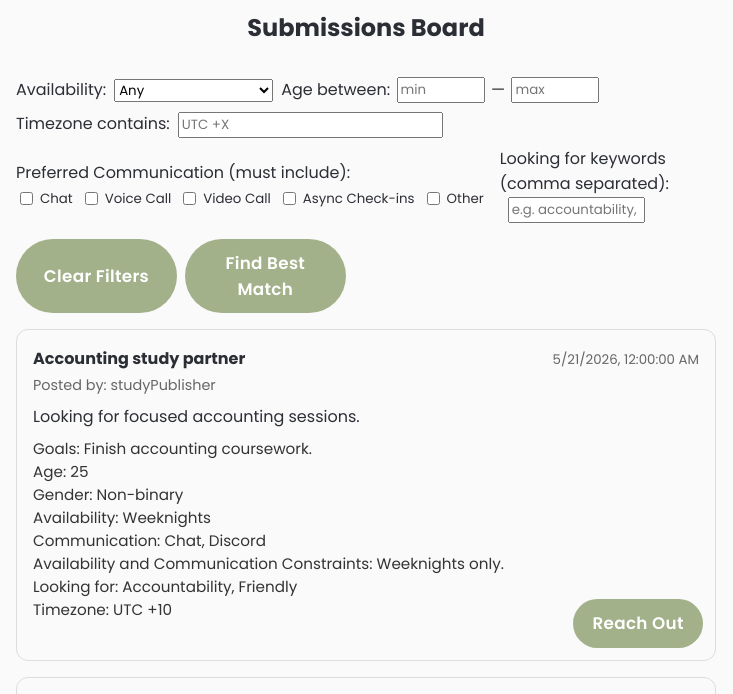
Test case: SubmissionsBoard › filters submissions by looking-for keywords
Check: the text "Accounting study partner" is shown, box [33,346,245,371]
In the field with placeholder "e.g. accountability, study, design": coordinates (577, 210) [508,197,646,223], type "creative"
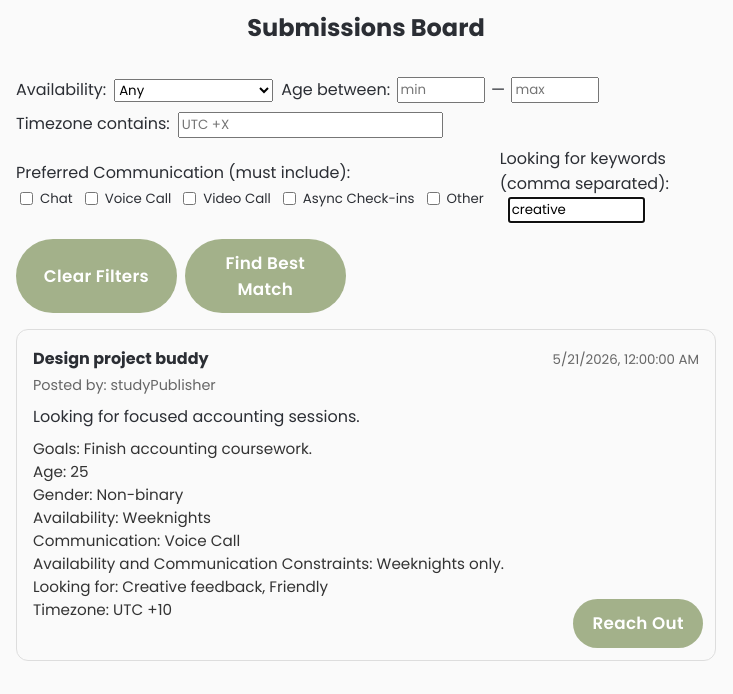
Check: the text "Design project buddy" is shown, box [33,346,209,371]
Check: the text "Accounting study partner" is gone
